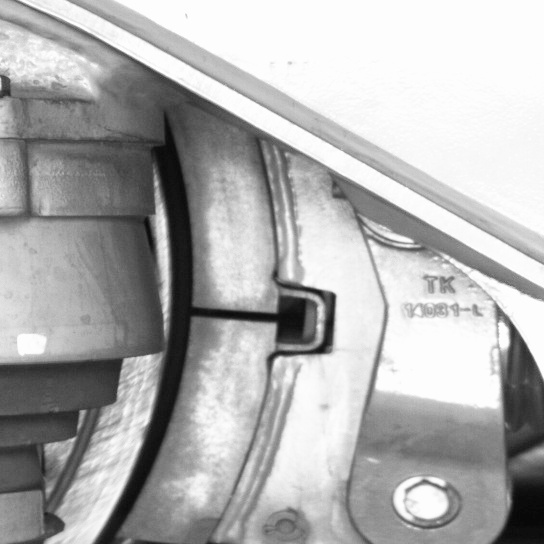KnifeSwitch: (88, 145, 290, 542)
